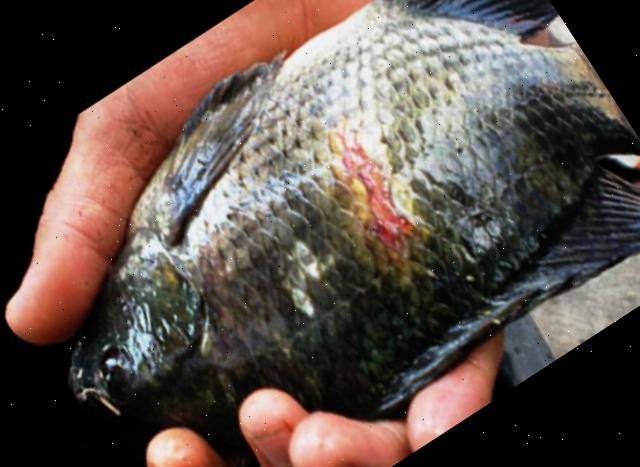Tilapia Lake Virus -TiLV-: (67, 0, 640, 463), (68, 0, 640, 450)
